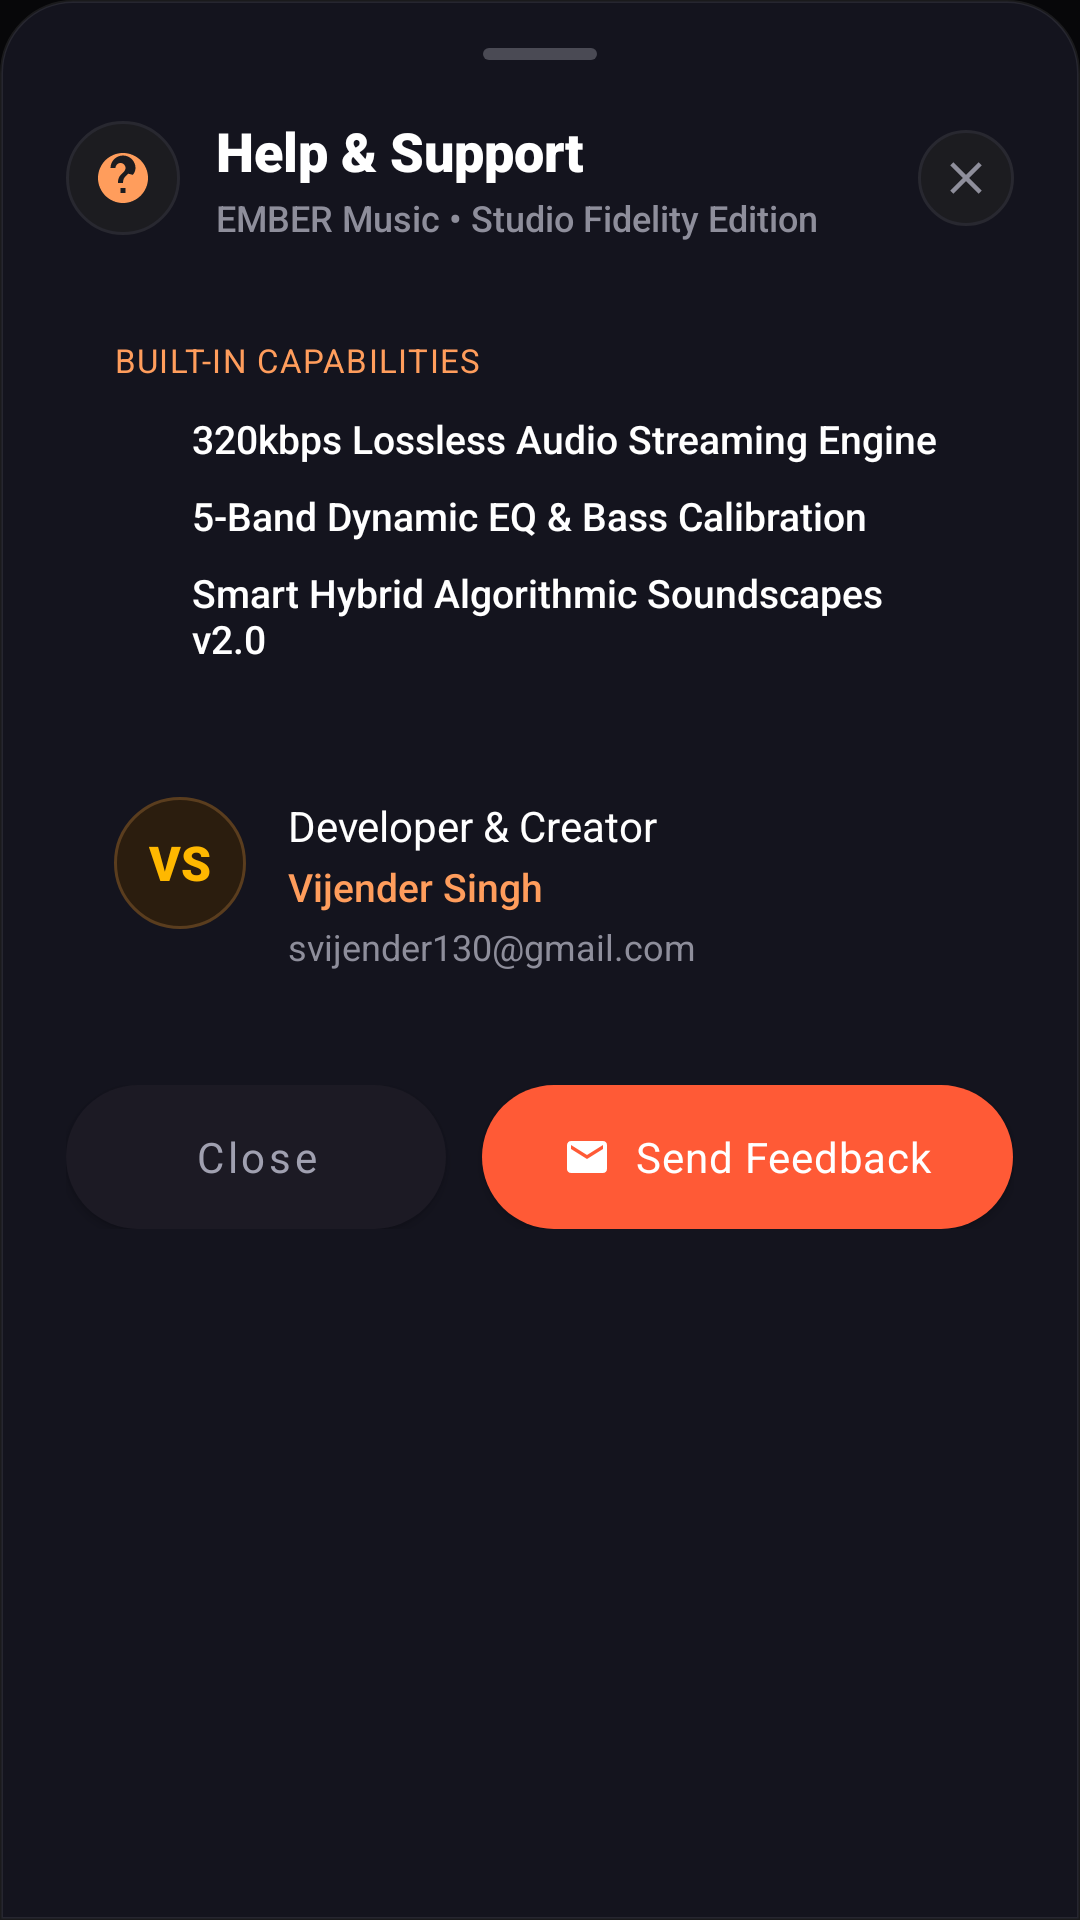

Icon bounding boxes for this 1080x1920 phone screenshot, format (x1, y1, x2, y2):
close: (950, 162, 982, 194)
